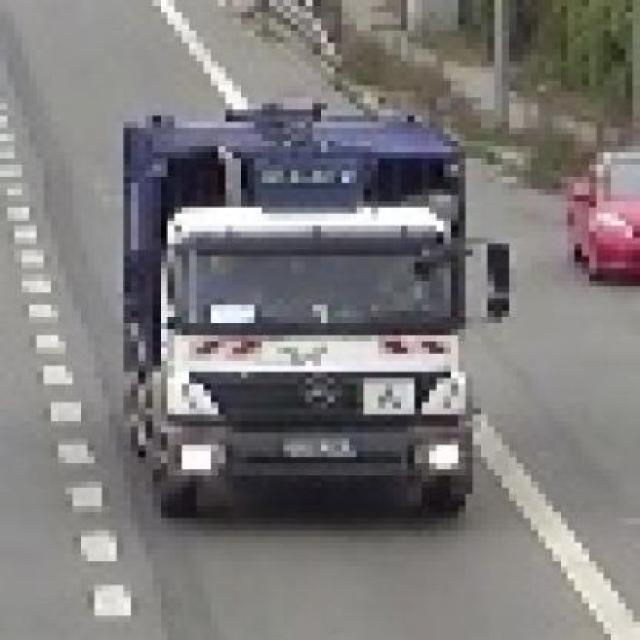truck: (103, 104, 510, 526)
